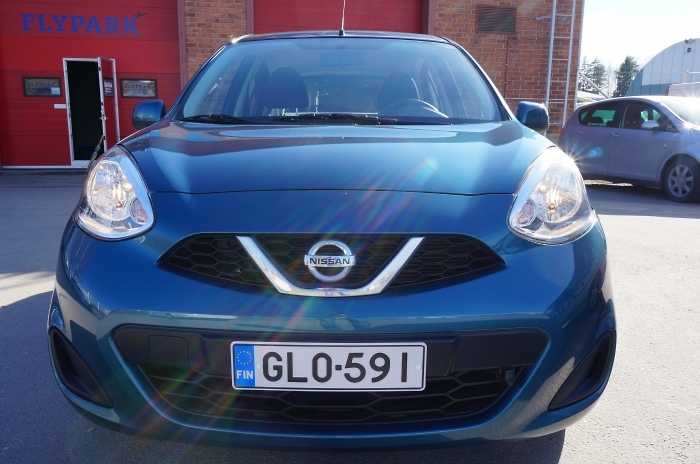license: (224, 337, 422, 397)
